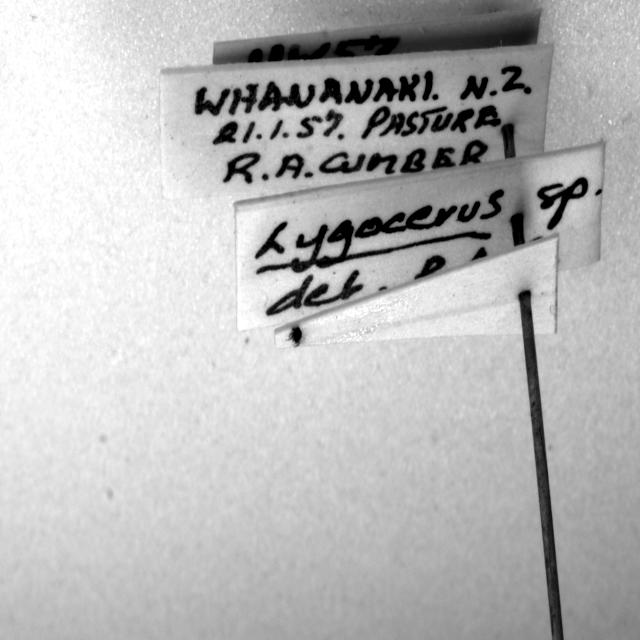hand_label: (235, 142, 605, 330), (160, 45, 552, 199)
